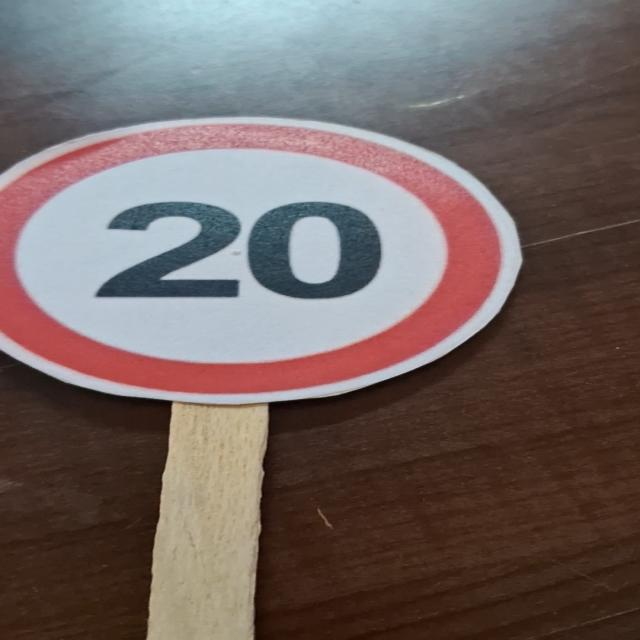Speed20: (0, 104, 530, 410)
